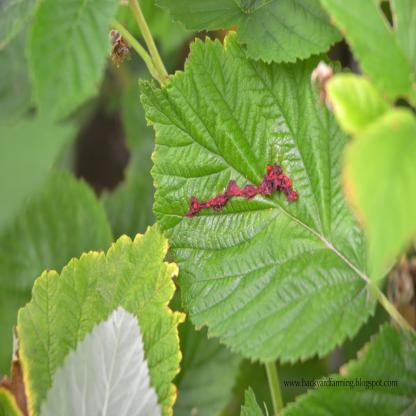raspberry leaf: (135, 29, 387, 370)
